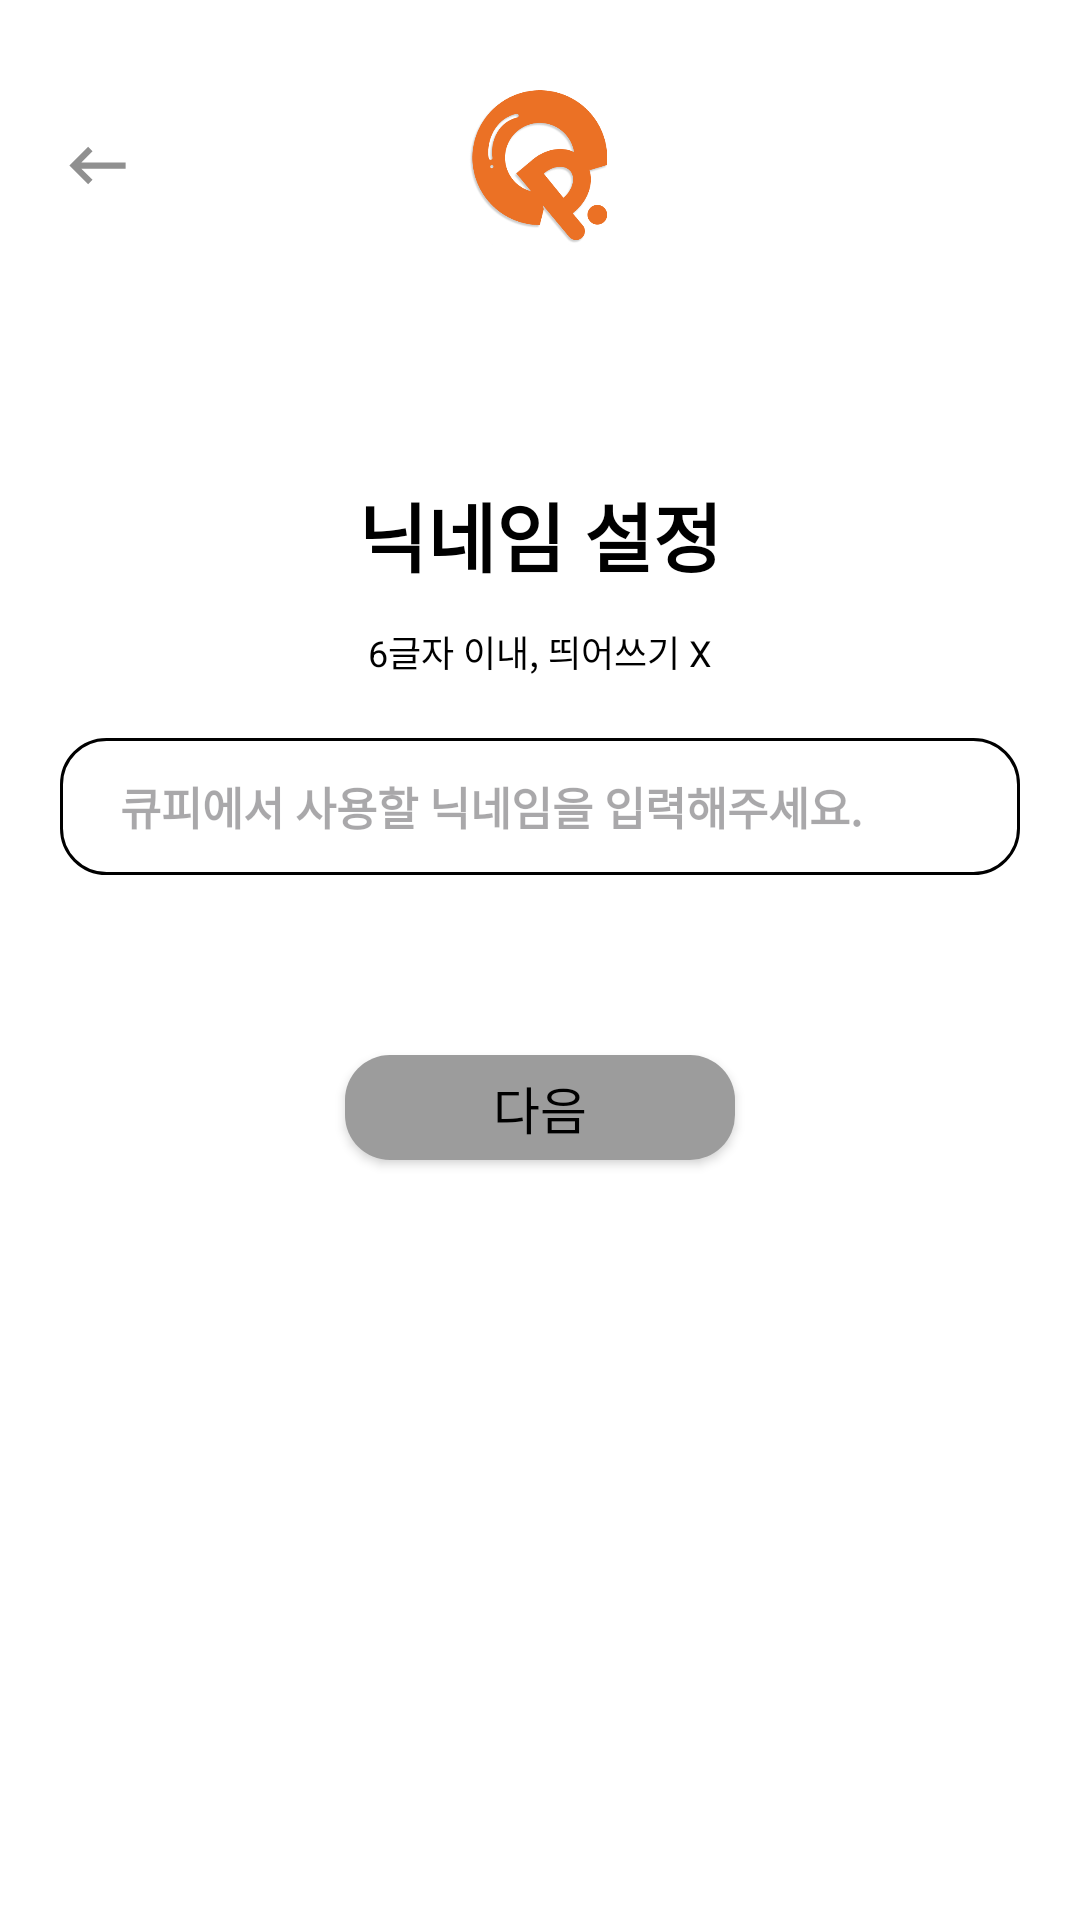

Icons on this 1080*1920 Android screen, each with its box as bbox=[x1, y1, x2, y2]:
keyboard backspace: bbox=[69, 147, 126, 184]
